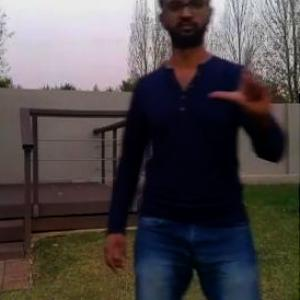land_hand: (208, 33, 281, 119)
